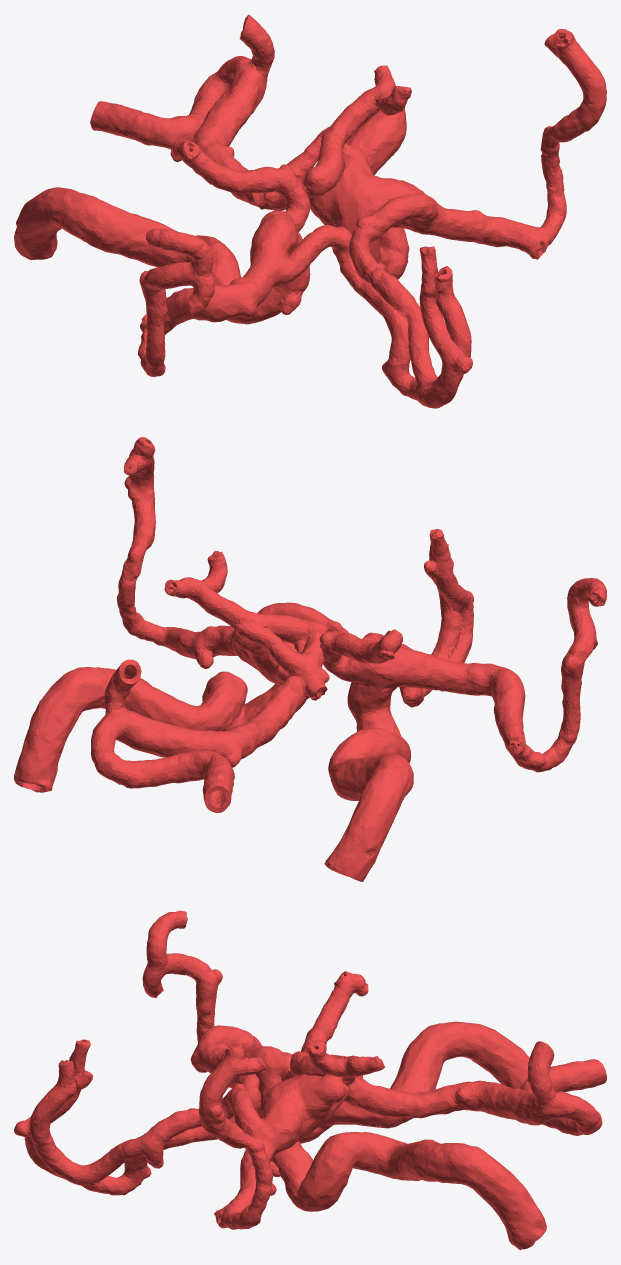
File: arteries.glb
3 views of the same model, one above another, from view 1: azimuth 30°, elevation 25°; view 2: azimuth 150°, elevation 25°; view 3: azimuth 270°, elevation 25° (orthographic). The views are drawn at different scales.
Parts seen in each view (by area): view 1: Cranial%20arteries%20Aneurism%20Nevit%20Dilmenstl; view 2: Cranial%20arteries%20Aneurism%20Nevit%20Dilmenstl; view 3: Cranial%20arteries%20Aneurism%20Nevit%20Dilmenstl.
Boxes of the visible parts, left/top/right/bottom form: Cranial%20arteries%20Aneurism%20Nevit%20Dilmenstl: left=14, top=14, right=606, bottom=408; Cranial%20arteries%20Aneurism%20Nevit%20Dilmenstl: left=14, top=437, right=606, bottom=881; Cranial%20arteries%20Aneurism%20Nevit%20Dilmenstl: left=14, top=910, right=606, bottom=1250.
Bounding box in the file's own units: 1.23 × 0.6588 × 1.43.
